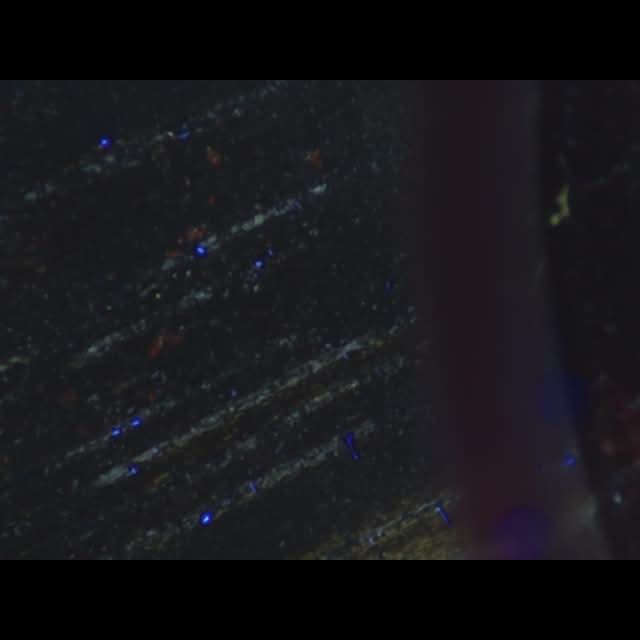Fibre: (552, 185, 572, 228)
